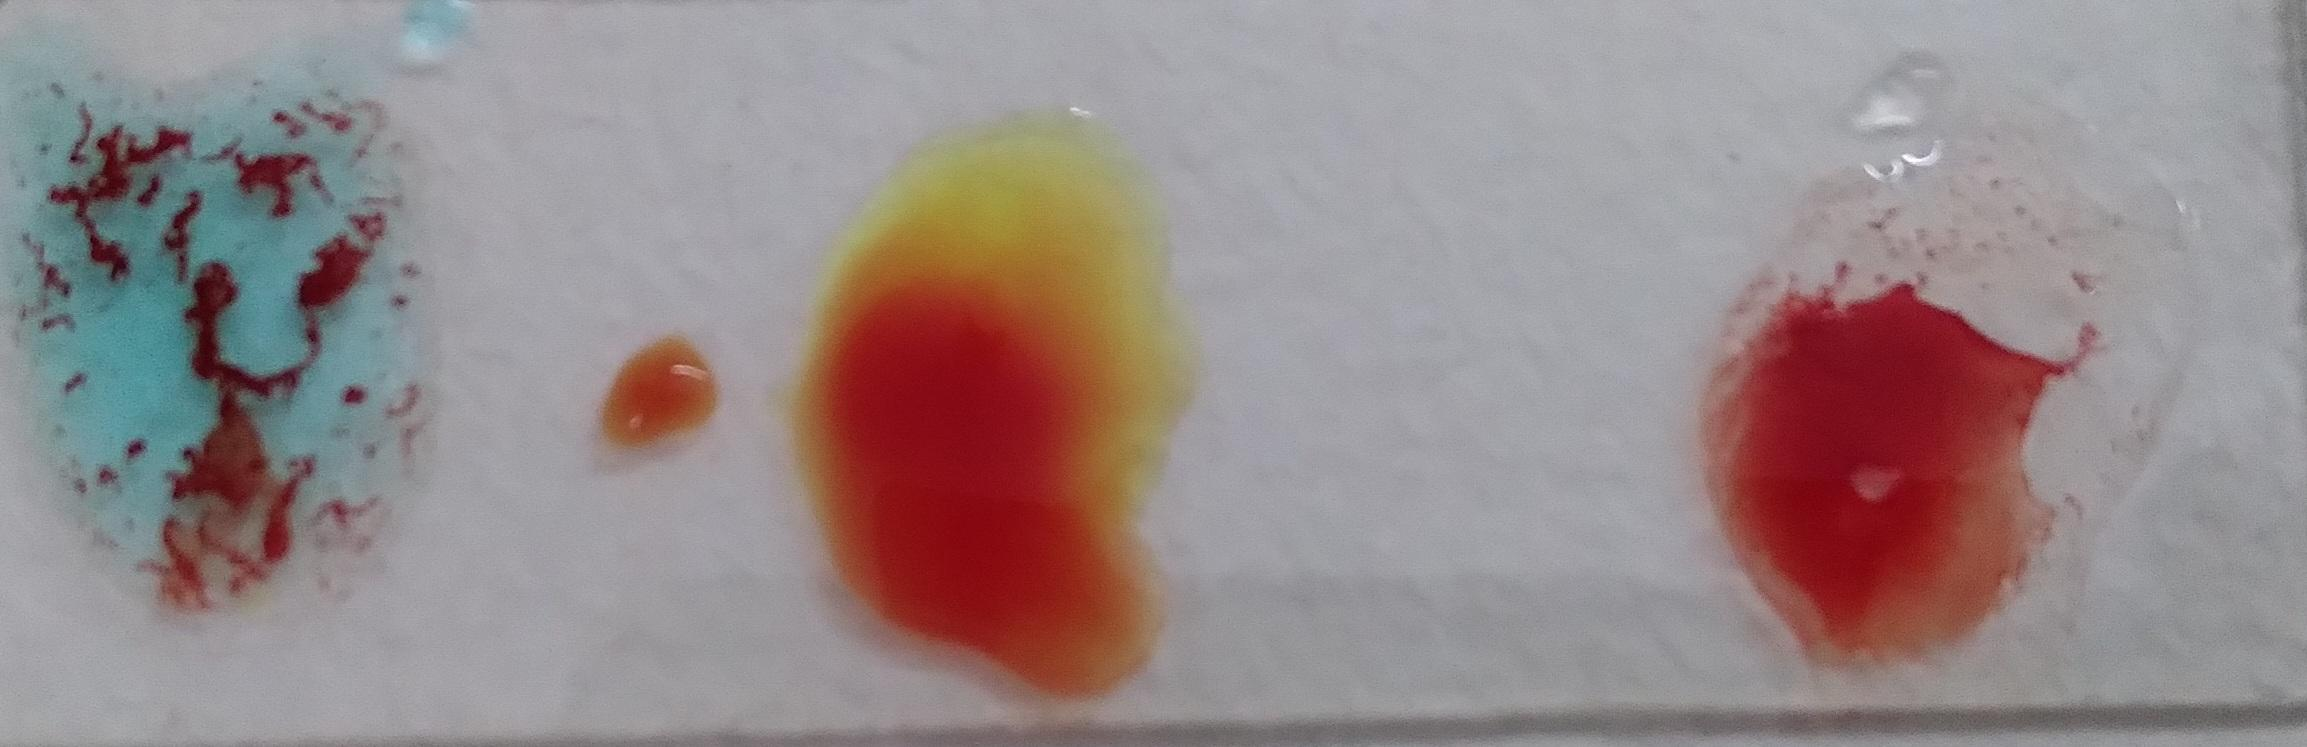A: (1863, 124, 2288, 687)
D: (91, 85, 622, 641)
